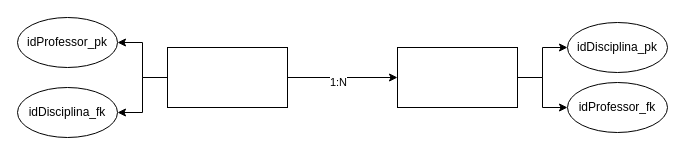
The diagram is 685 pixels wide and 155 high, and some of its shapes have lost their labels. Here are the shapes that lost their labels. From the top down, the centre of each, then its label:
At (227,77): "Professor".
At (457,77): "Disciplina".
